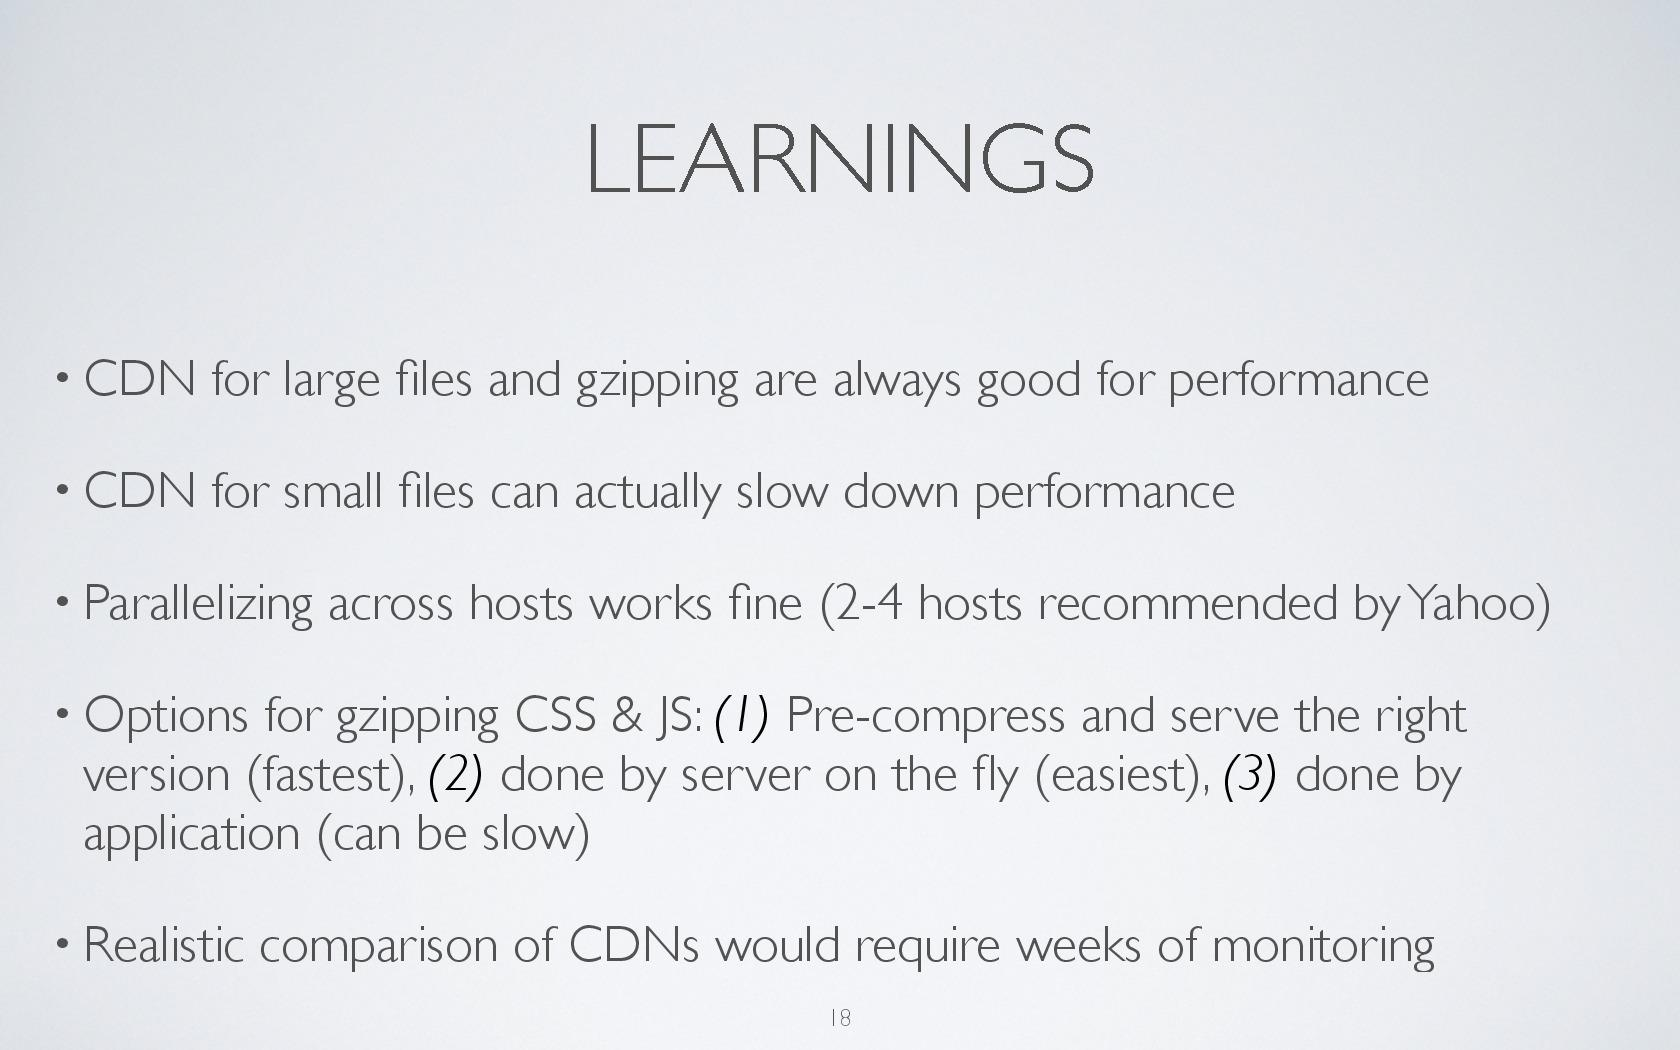paragraph: (37, 310, 1597, 1034)
title: (570, 92, 1120, 232)
